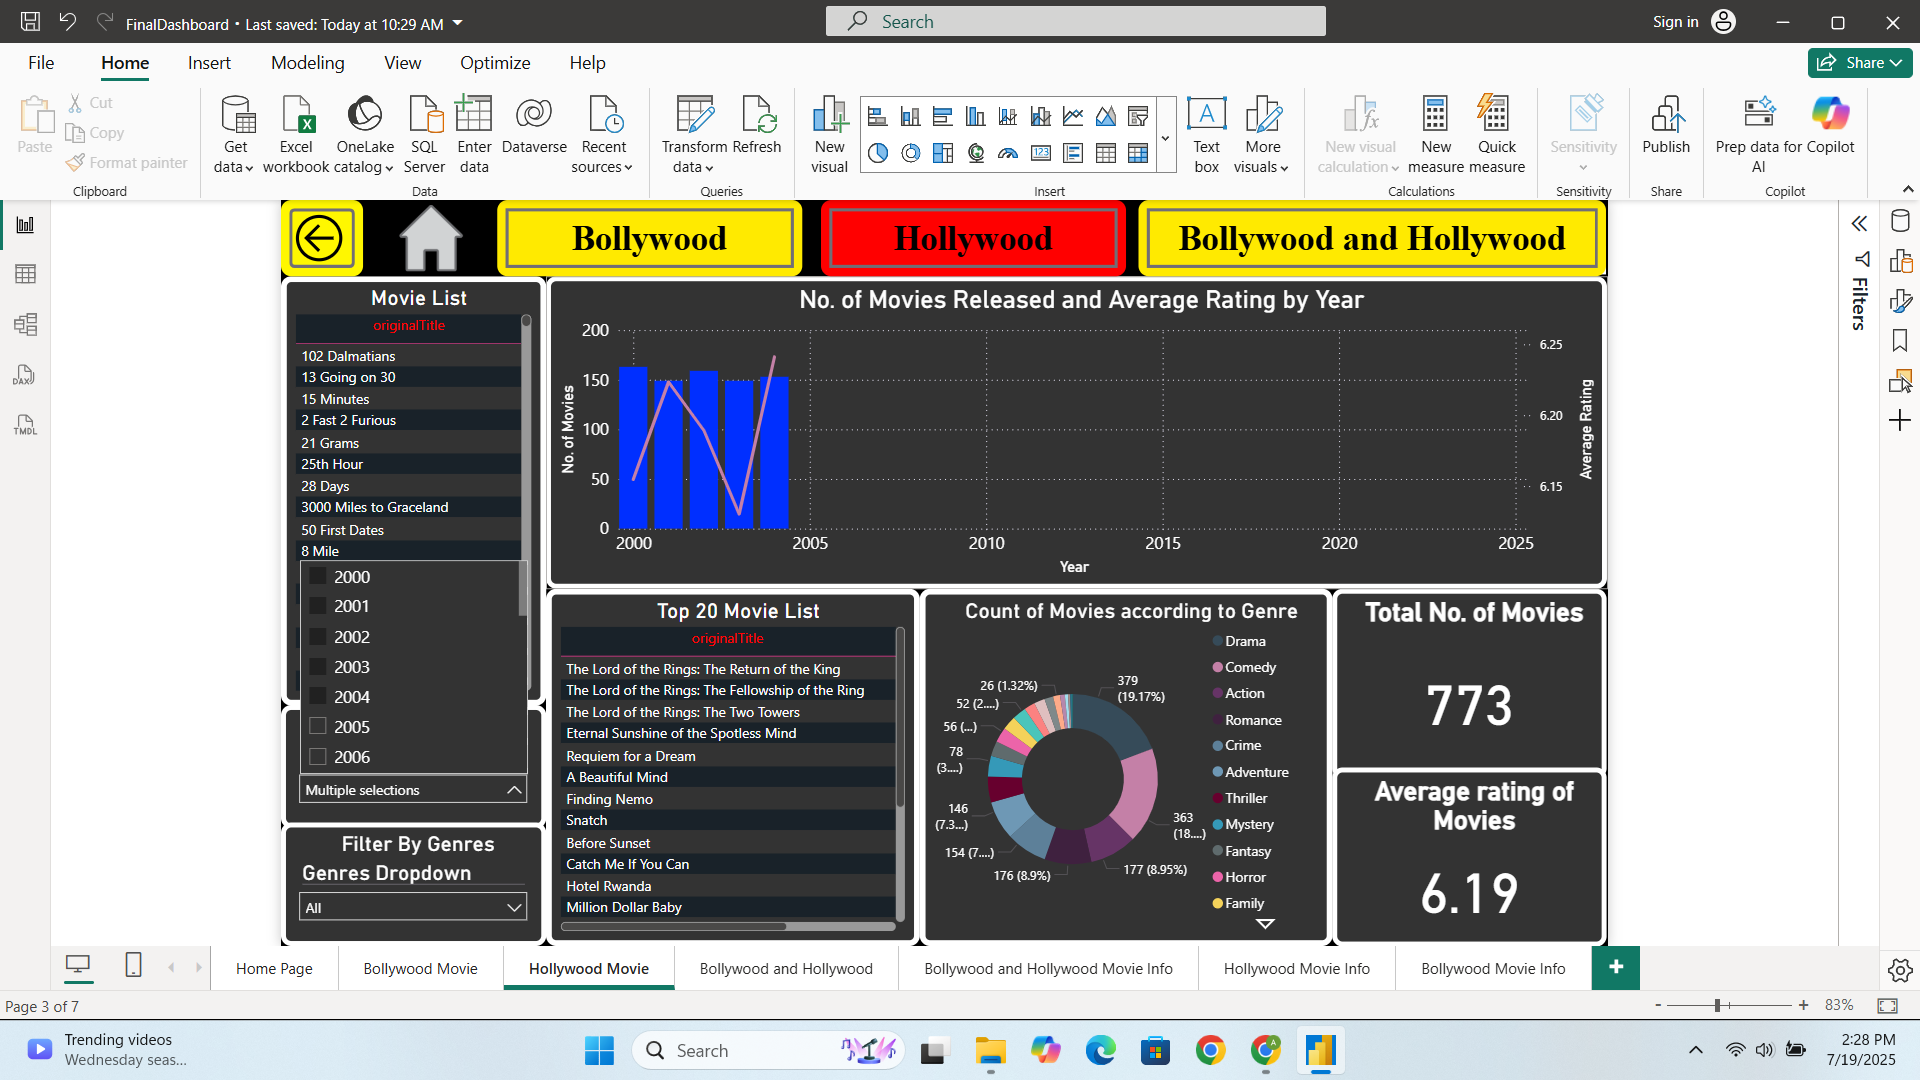

What the dashboard file says about the page in this screenshot:
{"tool":"powerbi","page":{"name":"Hollywood Movie","canvas":[1280,720],"ordinal":2},"visuals":[{"type":"card","title":"Total No. of Movies","fields":{"Values":["Hollywood_allDataMerged.HollyCountRows"]},"box":[1014.7,374.8,265,183.5],"z":0},{"type":"card","title":"Average rating of Movies","fields":{"Values":["Hollywood_allDataMerged.HollyAverageRating"]},"box":[1014.7,547.3,265,172.5],"z":1000},{"type":"lineStackedColumnComboChart","title":"No. of Movies Released and Average Rating by Year","fields":{"Category":["Hollywood_allDataMerged.startYear"],"Y":["CountNonNull(Hollywood_allDataMerged.tconst)"],"Y2":["Hollywood_allDataMerged.HollyAverageRating"]},"box":[255.4,73.6,1024.4,301.5],"z":2000},{"type":"donutChart","title":"Count of Movies according to Genre","fields":{"Category":["HollyGenre.Genre"],"Y":["CountNonNull(HollyGenre.tconst)"]},"box":[616.3,374.8,398.3,345],"z":3000},{"type":"slicer","title":"Filter By Year","fields":{"Values":["Hollywood_allDataMerged.startYear"]},"box":[0,487.7,255.6,119.2],"z":4000},{"type":"slicer","title":"Filter By Genres","fields":{"Values":["HollyGenre.Genre"]},"box":[0,600.6,255.6,119.2],"z":5000},{"type":"tableEx","title":"Movie List","fields":{"Values":["Hollywood_allDataMerged.originalTitle"]},"box":[0,73.7,255.6,414],"z":6000},{"type":"tableEx","title":"Top 20 Movie List","fields":{"Values":["Hollywood_allDataMerged.originalTitle","Hollywood_allDataMerged.averageRating","Hollywood_allDataMerged.startYear"]},"box":[255.6,374.8,360.7,345],"z":7000},{"type":"actionButton","box":[209.2,0,294.3,73.6],"z":8000},{"type":"actionButton","box":[520.8,0,294.3,73.6],"z":9000},{"type":"actionButton","box":[828.1,0,451.6,73.6],"z":10000},{"type":"actionButton","box":[0,0,79.4,73.6],"z":11000},{"type":"image","box":[90.9,0,108.2,73.6],"z":11001}]}

Visuals, with their boxes on the page's 1280x720 design canvas (x1, y1, x2, y2). These are canvas units, not pixel positions in the 1920x1080 screenshot, which may show the page scaled, cropped or inside an application window:
"Total No. of Movies" card: l=1015, t=375, r=1280, b=558
"Average rating of Movies" card: l=1015, t=547, r=1280, b=720
"No. of Movies Released and Average Rating by Year" lineStackedColumnComboChart: l=255, t=74, r=1280, b=375
"Count of Movies according to Genre" donutChart: l=616, t=375, r=1015, b=720
"Filter By Year" slicer: l=0, t=488, r=256, b=607
"Filter By Genres" slicer: l=0, t=601, r=256, b=720
"Movie List" tableEx: l=0, t=74, r=256, b=488
"Top 20 Movie List" tableEx: l=256, t=375, r=616, b=720
actionButton: l=209, t=0, r=504, b=74
actionButton: l=521, t=0, r=815, b=74
actionButton: l=828, t=0, r=1280, b=74
actionButton: l=0, t=0, r=79, b=74
image: l=91, t=0, r=199, b=74
